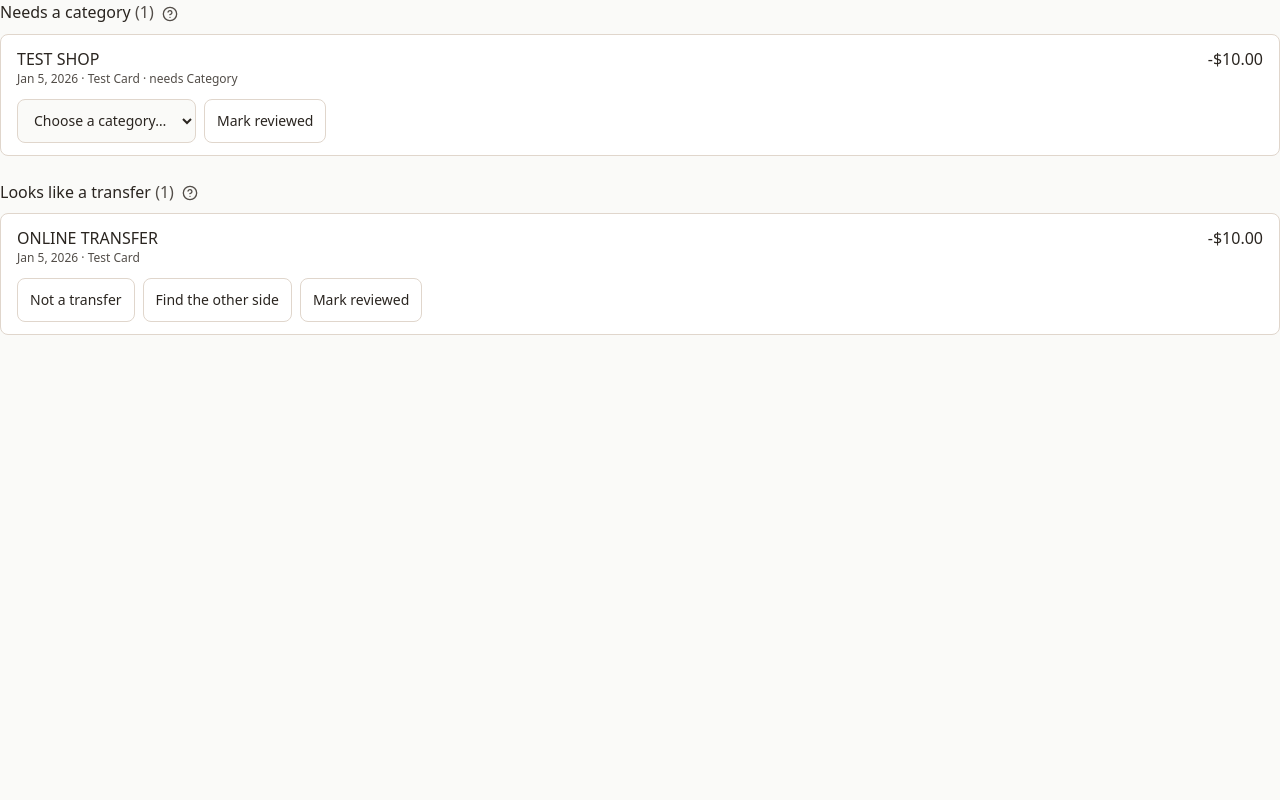
it: picking a category tags it and offers Always do this
Select "Food" in the dropdown named "Choose a category" at coordinates (106, 121), box x1=17 y1=99 x2=196 y2=143
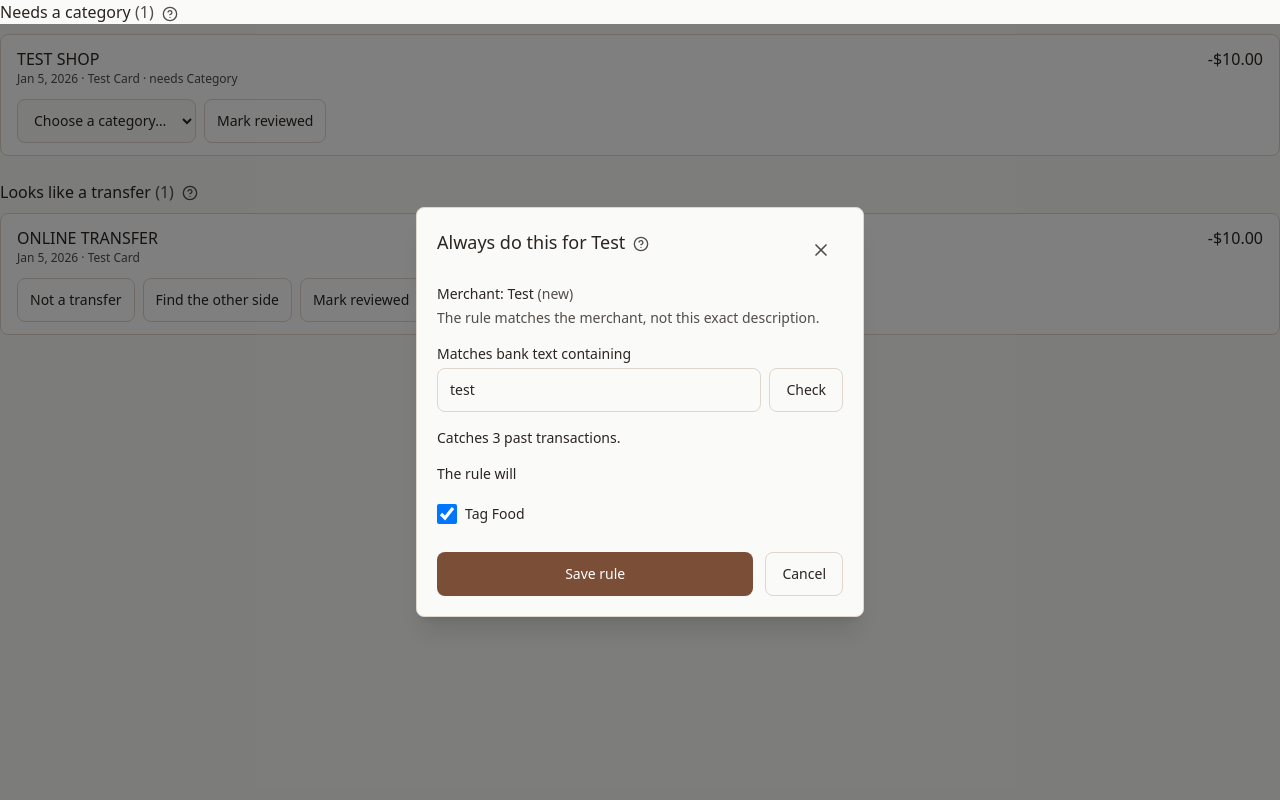
Check: the dialog "Always do this" is shown
Check: the text "Catches 3 past transactions." is shown, box x1=437 y1=428 x2=620 y2=447
